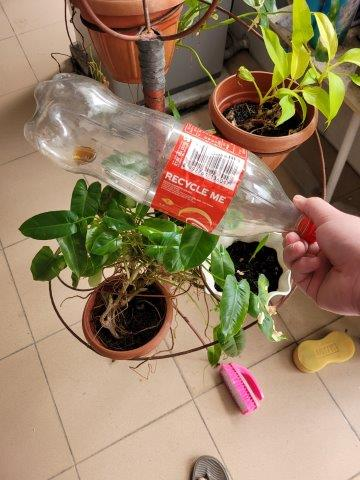botolplastik: (25, 73, 318, 247)
